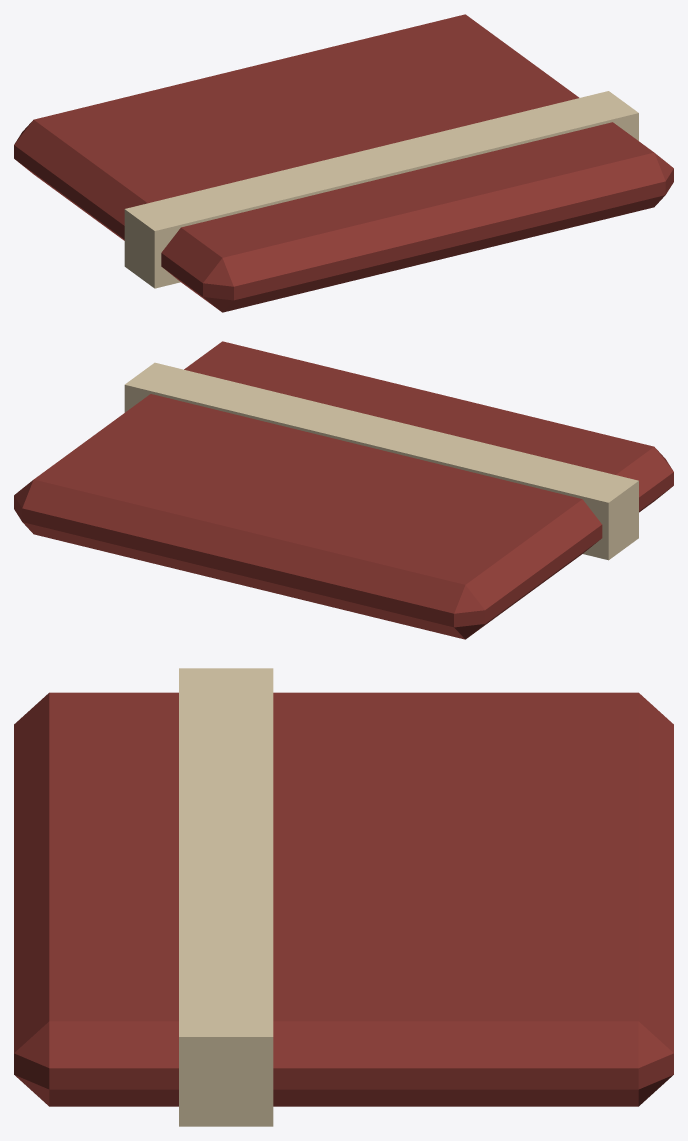
Rendered from sweater.glb.
3 views of the same model, one above another, from view 1: azimuth 30°, elevation 25°; view 2: azimuth 150°, elevation 25°; view 3: azimuth 270°, elevation 25° (orthographic). The views are drawn at different scales.
Visible parts, largest first — view 1: Item; view 2: Item; view 3: Item.
Part boxes in pixels (x1,y1,x2,y2): Item: [14, 14, 673, 312]; Item: [14, 341, 673, 639]; Item: [14, 668, 673, 1126].
Bounding box in the file's own units: 0.37 × 0.042 × 0.28.
